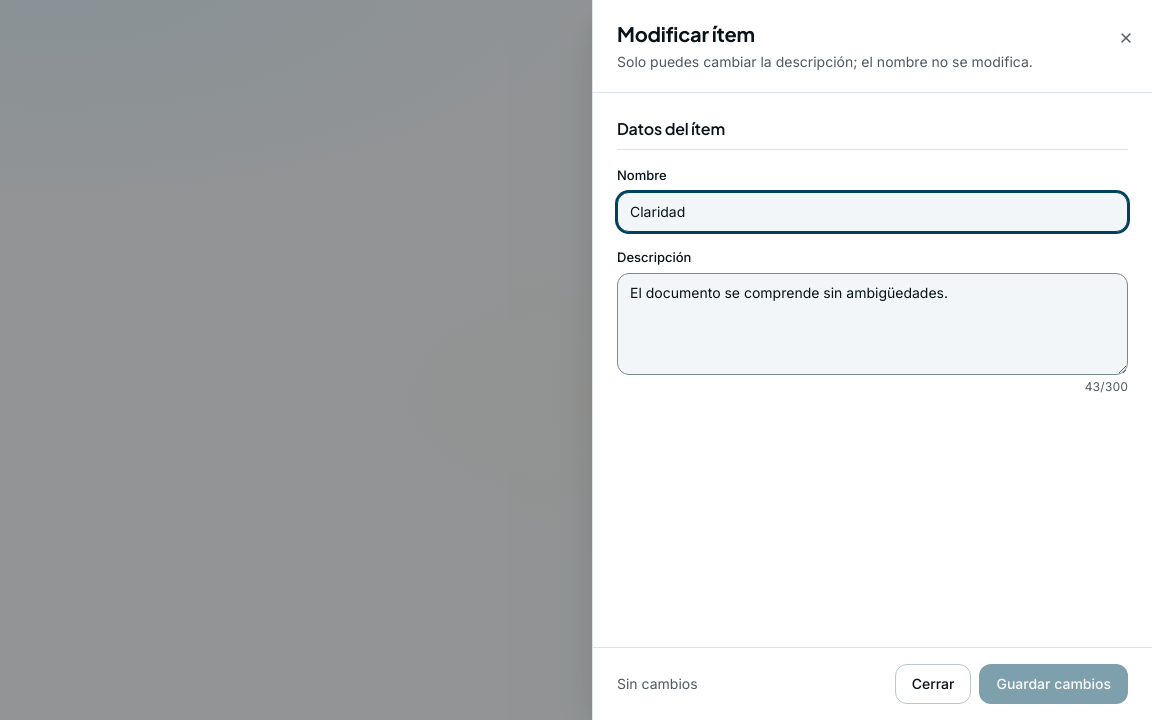
Test: ModificarItemCualitativoJuradoPanel › con la descripción vacía muestra el requerido al salir del campo
Clear the text box labelled "Descripción" at [872, 324], box x1=617 y1=273 x2=1128 y2=375
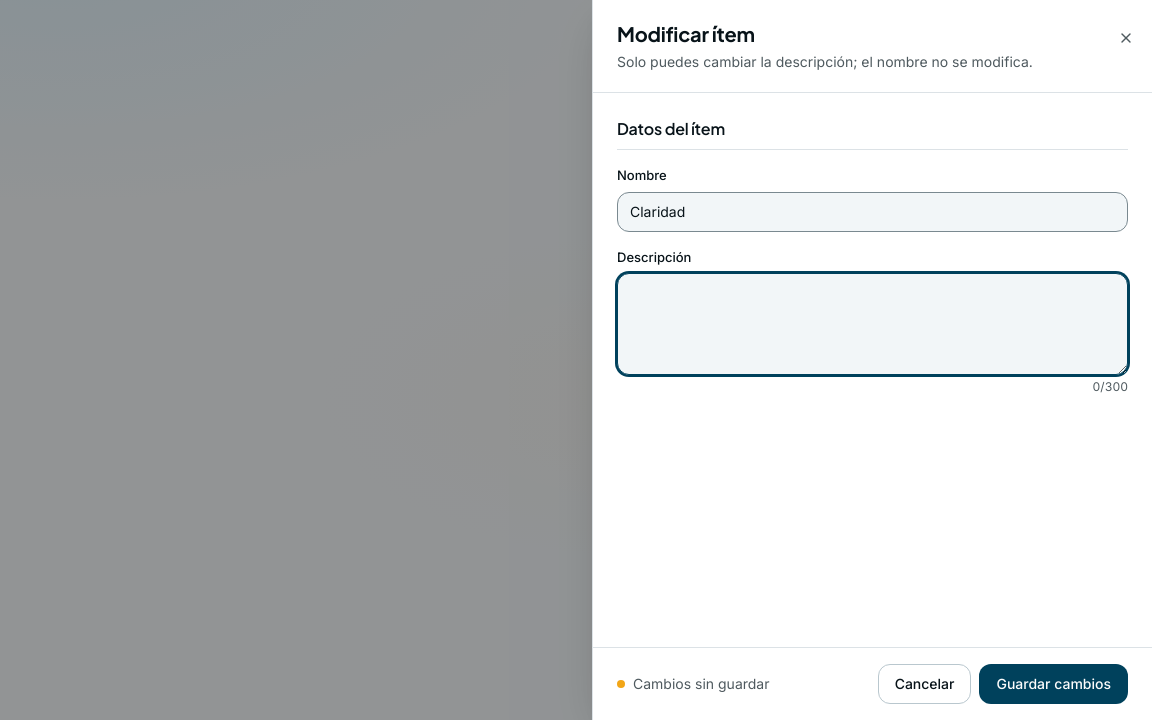
Press Tab
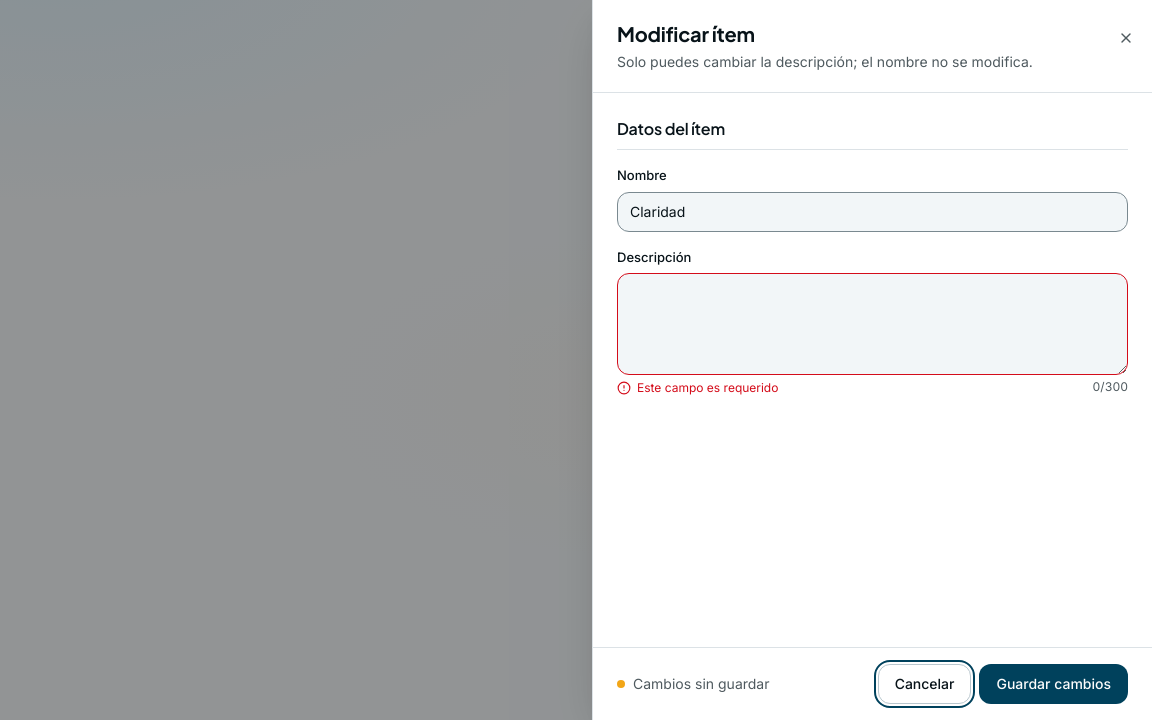
Expected: the message reads "Este campo es requerido", x1=637 y1=380 x2=778 y2=395
